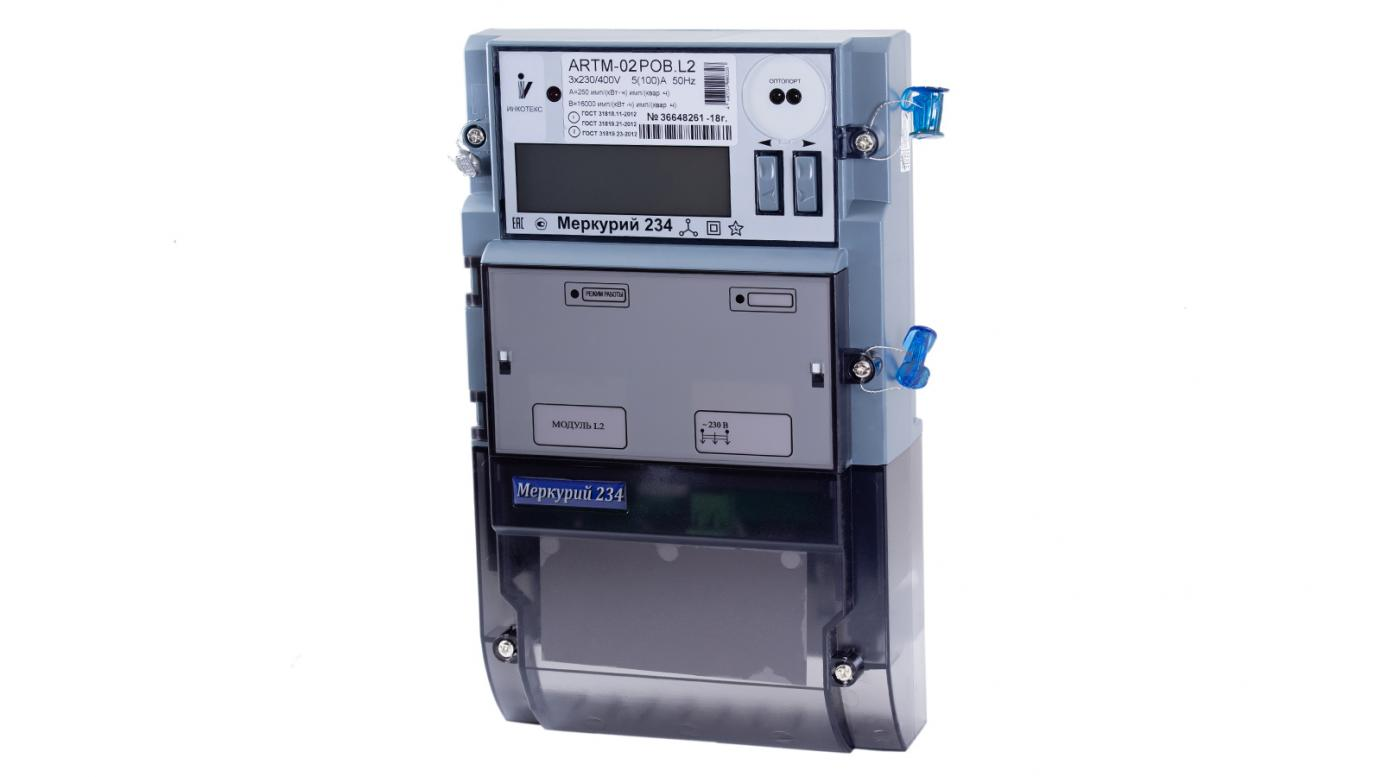counter: (459, 26, 915, 752)
counter_screen: (510, 139, 736, 221)
